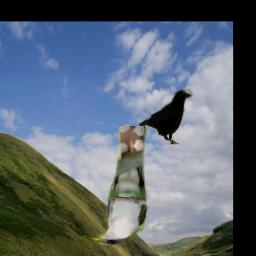Crow: (138, 87, 193, 144)
Cuckoo: (86, 126, 149, 248)
